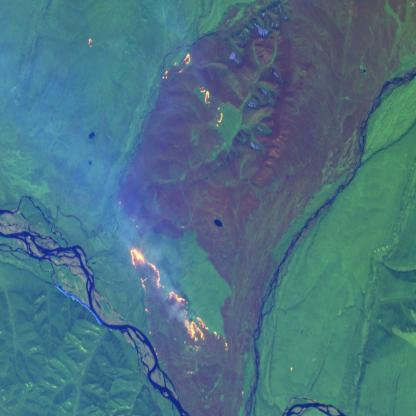fire: (122, 233, 231, 378), (156, 48, 225, 133), (86, 36, 96, 52)
